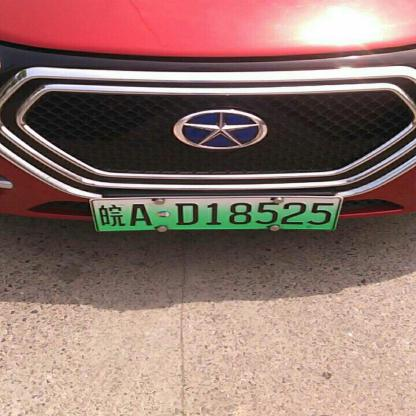lp: (92, 198, 340, 230)
